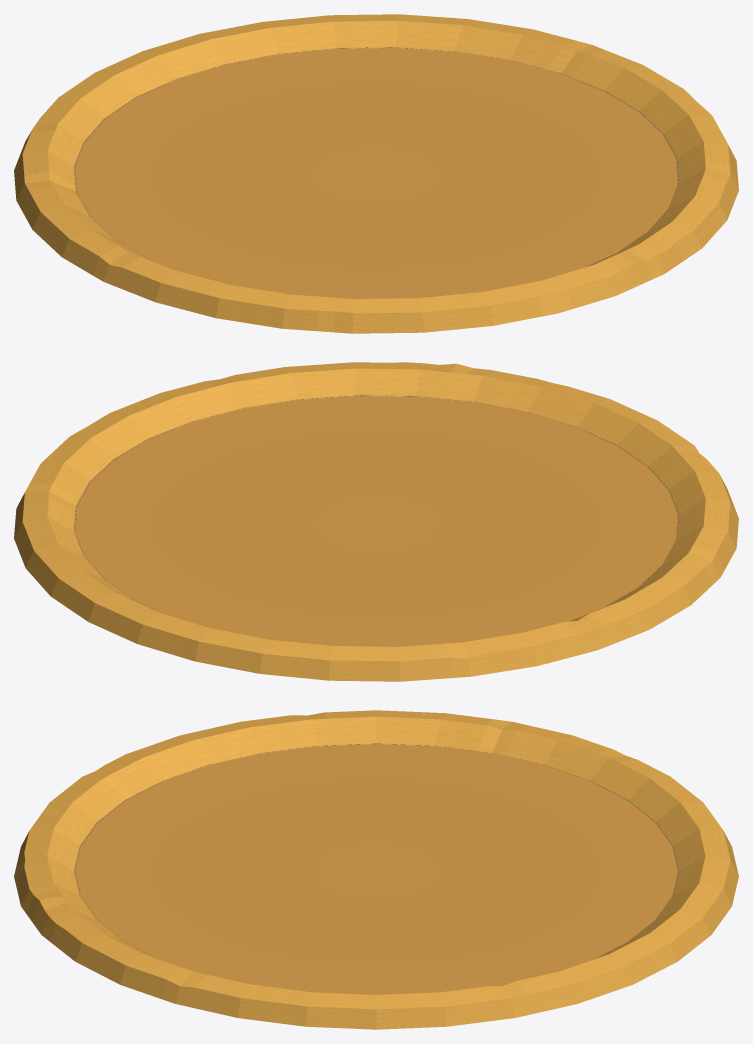
File: WorldItem_PizzaDough.fbx
The picture shows the model from 3 angles, top to bottom: view 1: azimuth 30°, elevation 25°; view 2: azimuth 150°, elevation 25°; view 3: azimuth 270°, elevation 25°; orthographic projection.
Parts seen in each view (by area): view 1: Pizza; view 2: Pizza; view 3: Pizza.
Boxes of the visible parts, <box> form: Pizza: <box>14,14,738,333</box>; Pizza: <box>14,362,738,681</box>; Pizza: <box>14,710,738,1029</box>.
Size of the model in its own units: 45.79 by 2.22 by 45.79.
